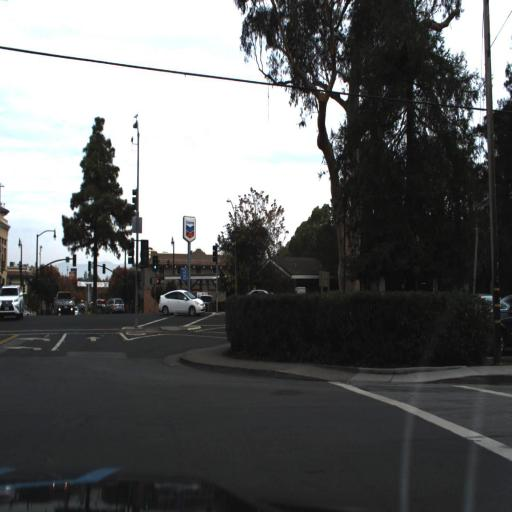car: (158, 286, 208, 316), (156, 287, 206, 315), (0, 281, 27, 319), (52, 288, 76, 316), (104, 292, 125, 315)
